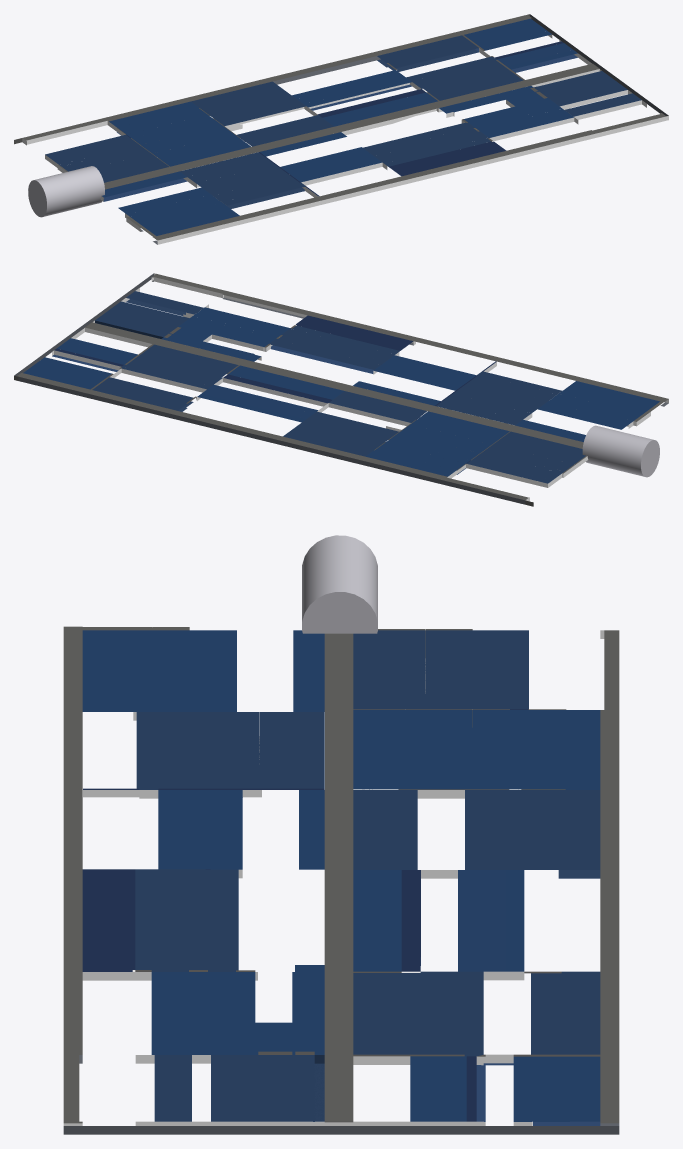
The model's file is KaputtePlatte.dae.
3 renders of one model, top to bottom at view 1: azimuth 30°, elevation 25°; view 2: azimuth 150°, elevation 25°; view 3: azimuth 270°, elevation 25°, orthographic. The views are drawn at different scales.
Parts seen in each view (by area): view 1: SketchUp (×35); view 2: SketchUp (×31); view 3: SketchUp (×29).
Boxes of the visible parts, x1,y1,x2,y2 form: SketchUp (×35): (22, 14, 668, 244); SketchUp (×31): (14, 273, 668, 504); SketchUp (×29): (63, 535, 619, 1134).
Bounding box in the file's own units: 53.49 × 22.9 × 3.13.
